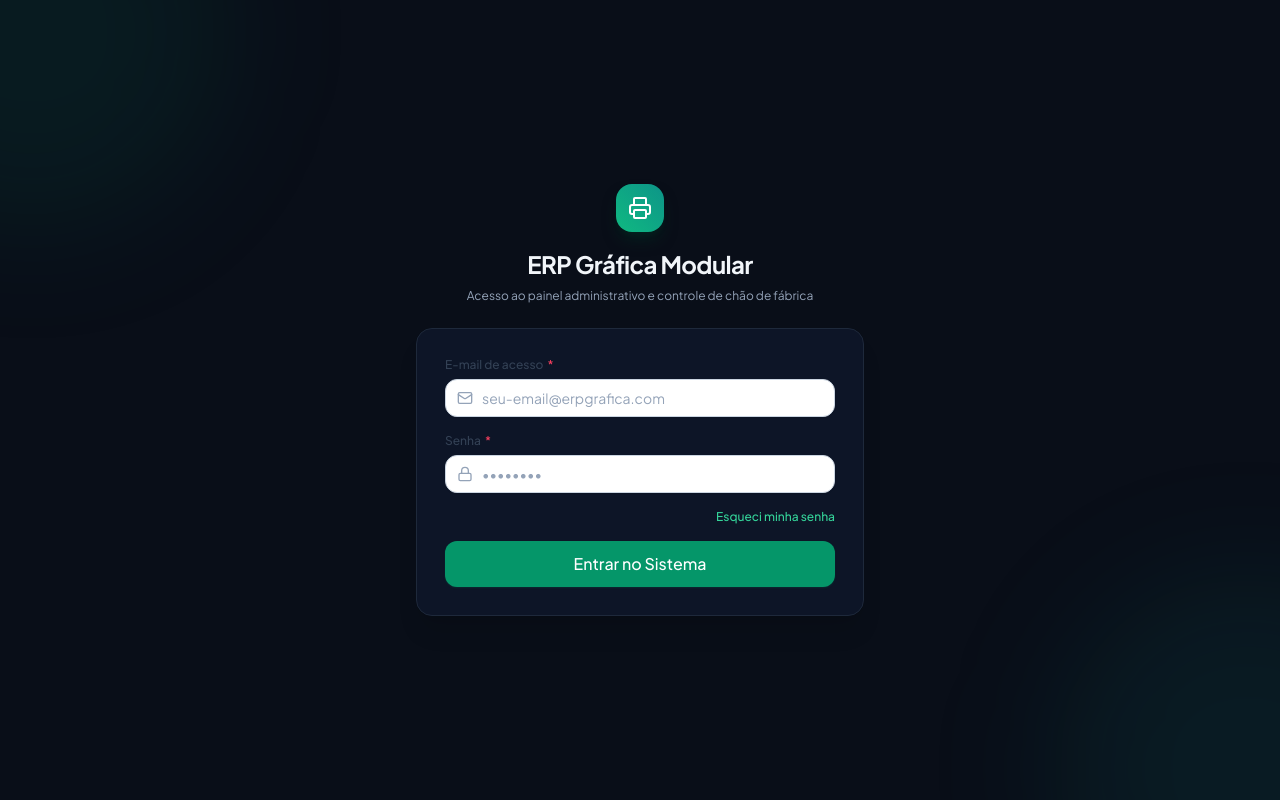
LoginPage › should open forgot password modal and submit email request
Click the button "Esqueci minha senha" at (776, 517), box [716,509,835,525]
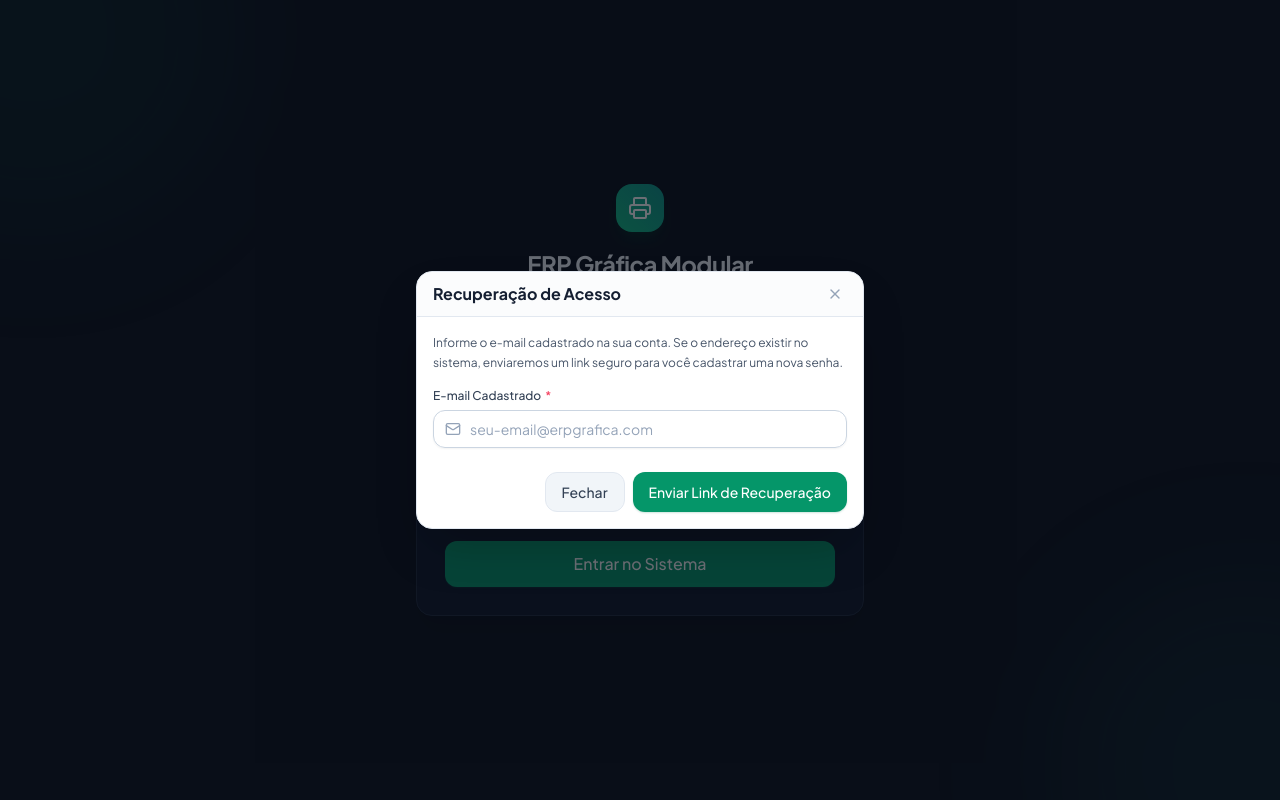
Now the heading "Recuperação de Acesso" is shown, box [433,282,621,306]
Type "admin@erpgrafica.com" into the field labelled "E-mail Cadastrado*" at (640, 429), box [433,410,847,448]
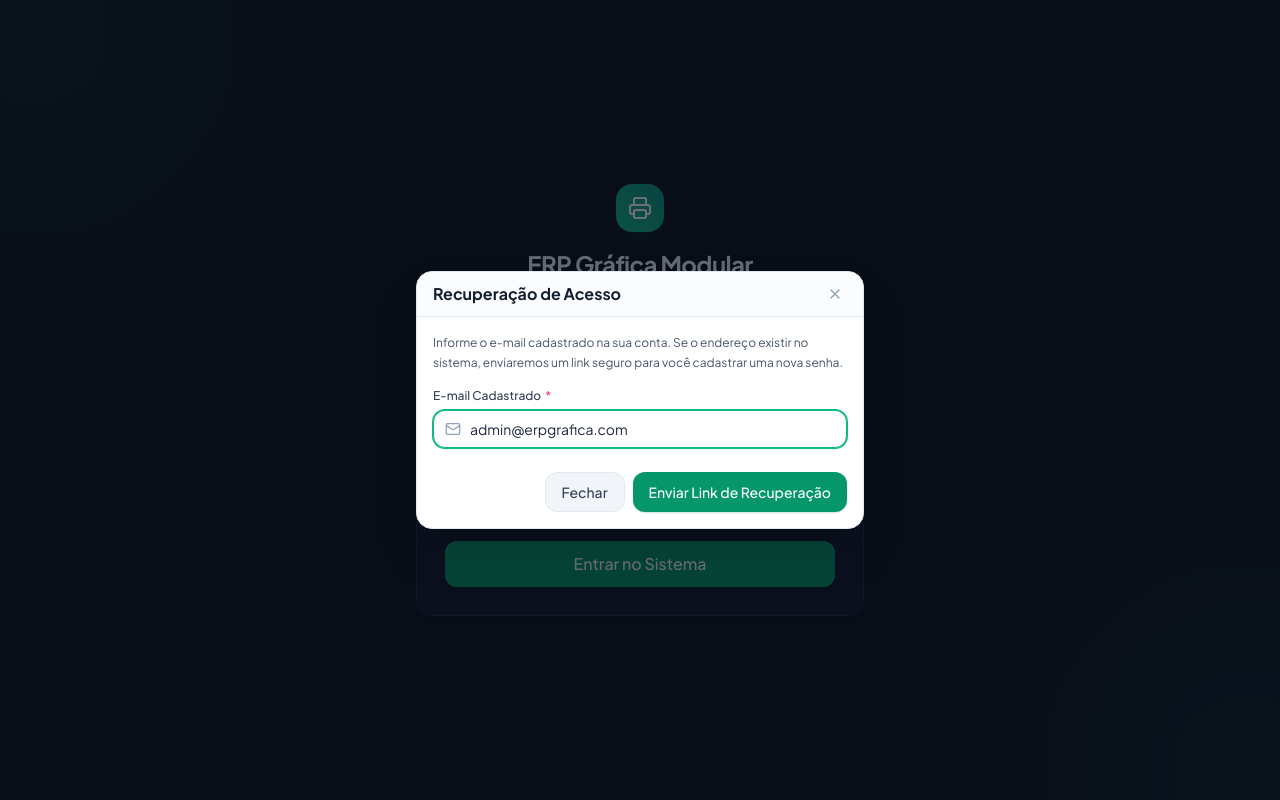
Click the button "Enviar Link de Recuperação" at (740, 492), box [633,472,847,512]
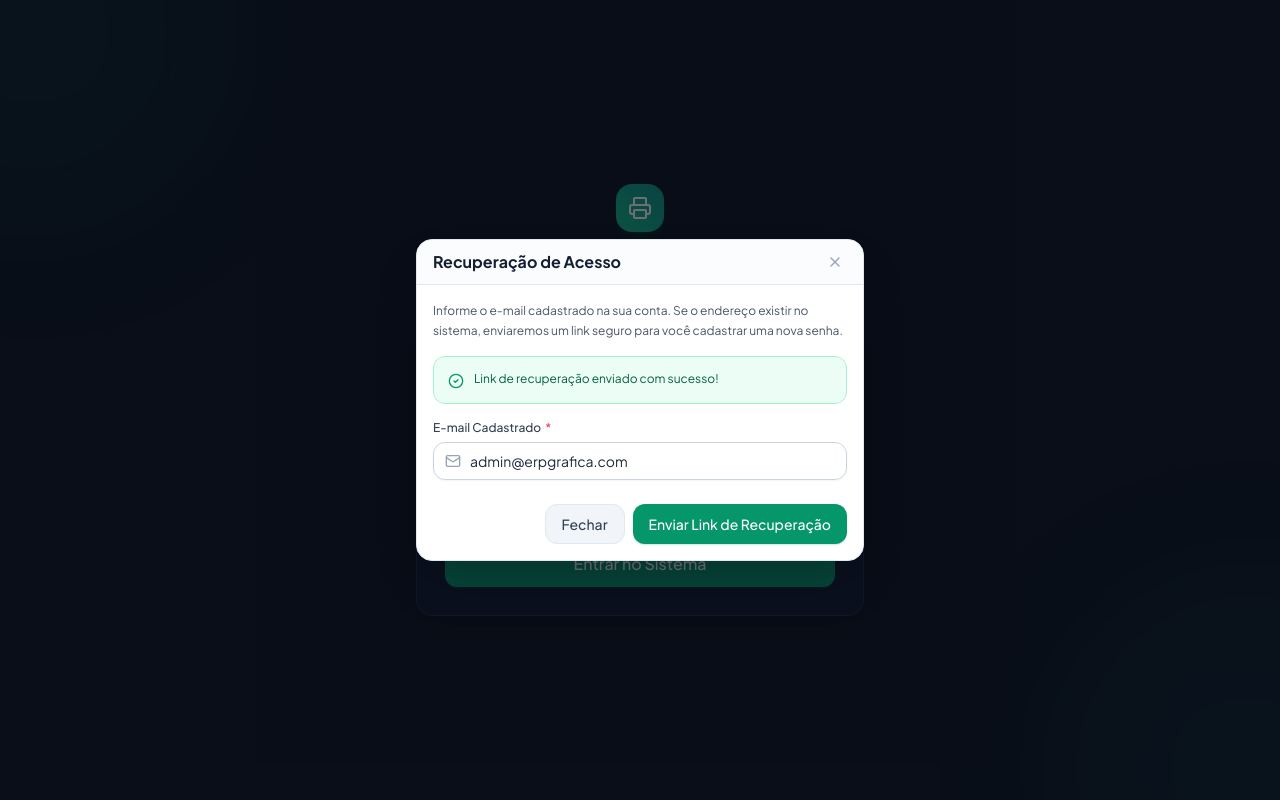
Now the text "Link de recuperação enviado com sucesso!" is shown, box [474,371,719,388]
